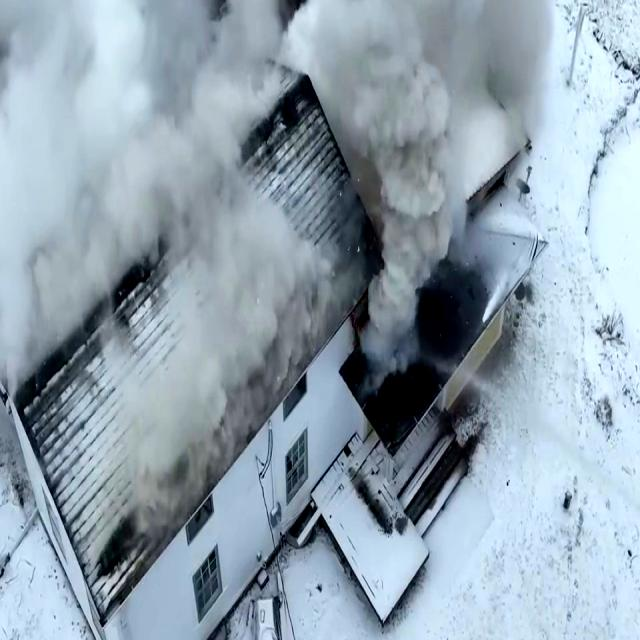smoke: (0, 0, 197, 230), (358, 0, 466, 344)
